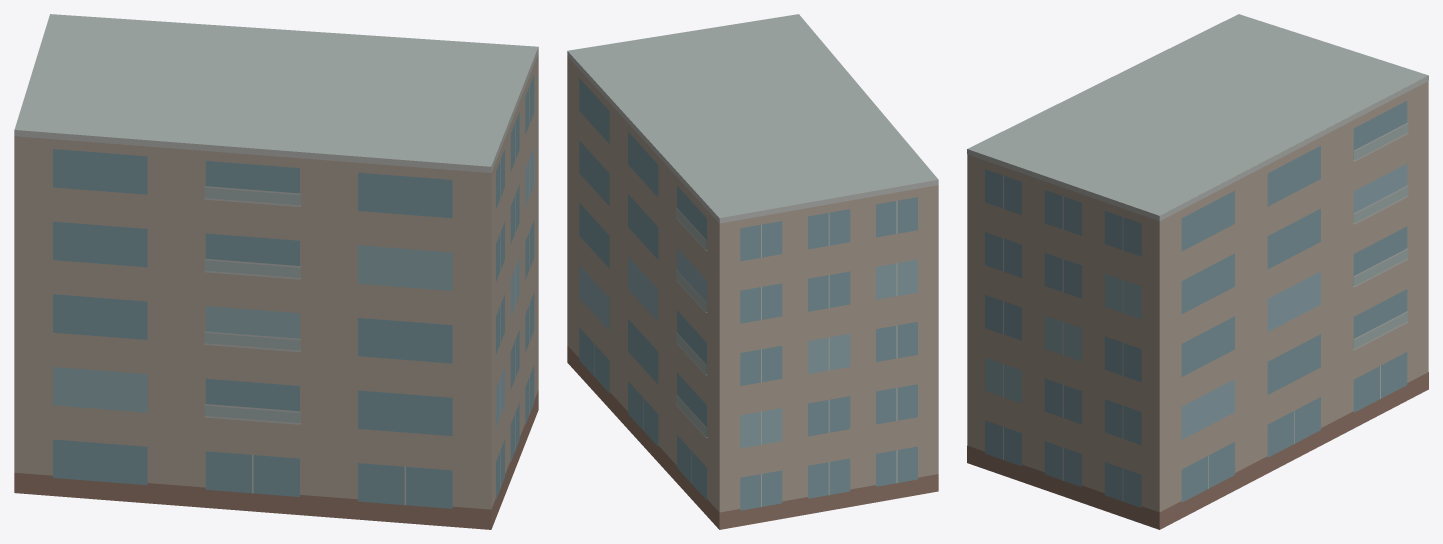
The model's file is survey-upis-33005005.glb.
The picture shows the model from 3 angles, left to right: view 1: azimuth 30°, elevation 25°; view 2: azimuth 150°, elevation 25°; view 3: azimuth 270°, elevation 25°; orthographic projection. The views are drawn at different scales.
Parts seen in each view (by area): view 1: survey-upis-33005005.tmp; view 2: survey-upis-33005005.tmp; view 3: survey-upis-33005005.tmp.
Part boxes in pixels (x1,y1,x2,y2): survey-upis-33005005.tmp: (14,14,538,529); survey-upis-33005005.tmp: (567,14,938,529); survey-upis-33005005.tmp: (967,14,1428,529).
Bounding box in the file's own units: 19.52 × 14.15 × 18.86.
